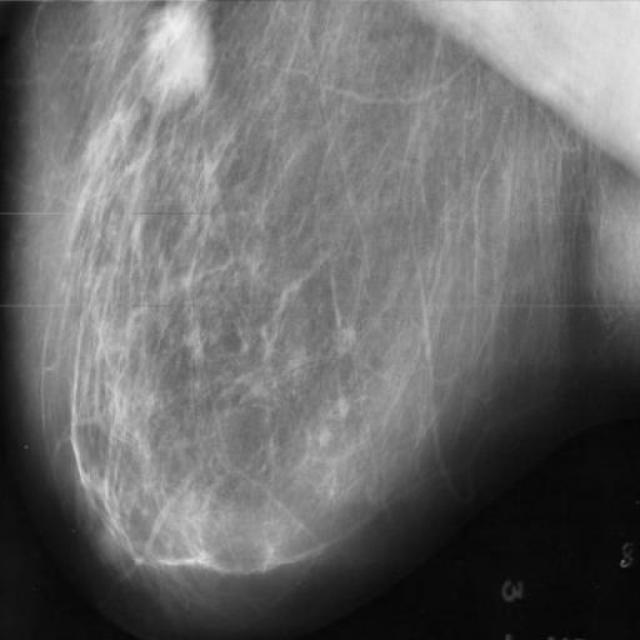cancer: (124, 0, 224, 119)
